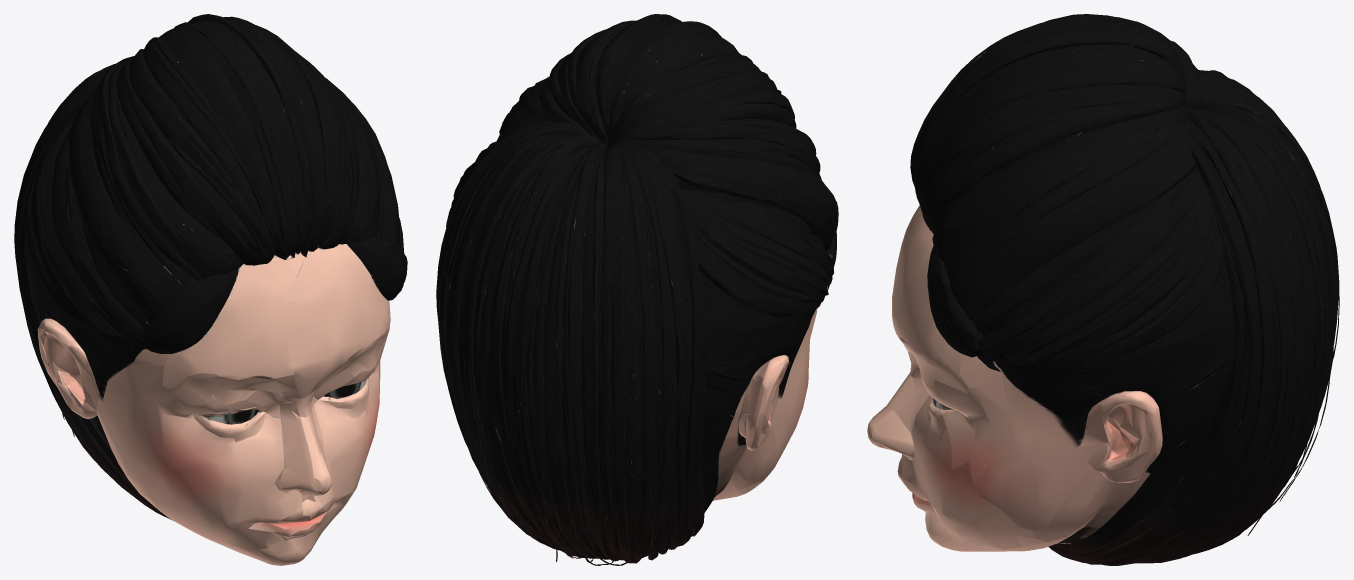
File: hair_f_bun.glb
3 views of the same model, side by side, from view 1: azimuth 30°, elevation 25°; view 2: azimuth 150°, elevation 25°; view 3: azimuth 270°, elevation 25° (orthographic). The views are drawn at different scales.
Bounding box in the file's own units: 1.33 × 1.9 × 1.55.
Materials: 1 (1 with a texture image).
